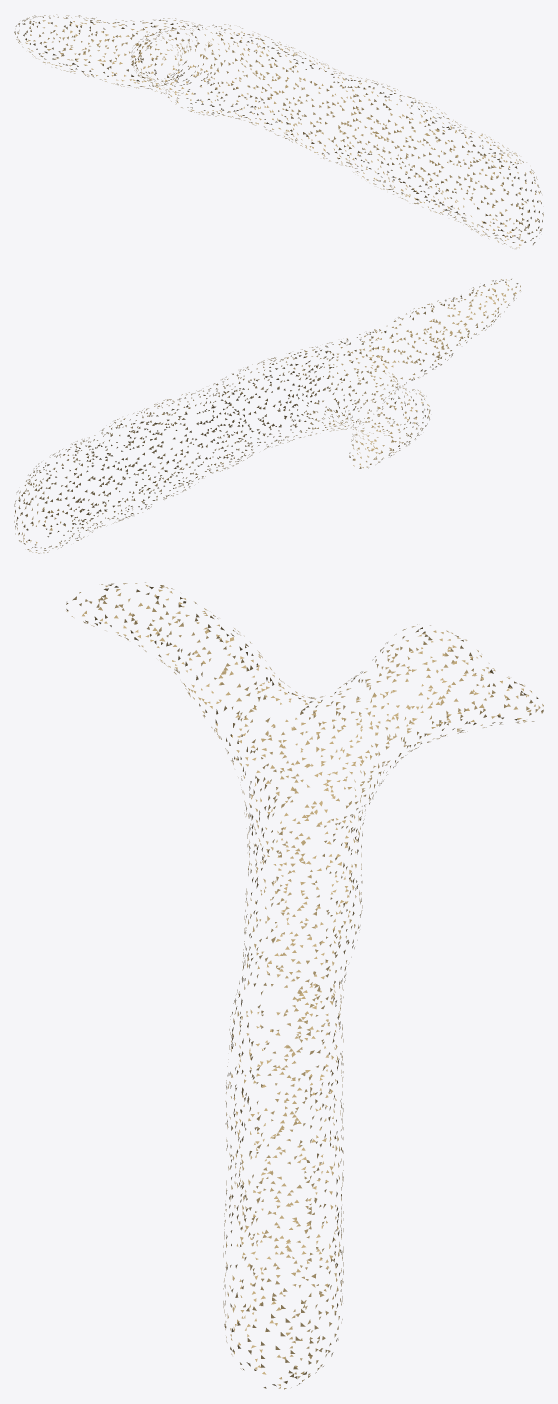
Rendered from morph_007.glb.
The picture shows the model from 3 angles, top to bottom: view 1: azimuth 30°, elevation 25°; view 2: azimuth 150°, elevation 25°; view 3: azimuth 270°, elevation 25°; orthographic projection. The views are drawn at different scales.
Bounding box in the file's own units: 118 × 82.89 × 78.7.
